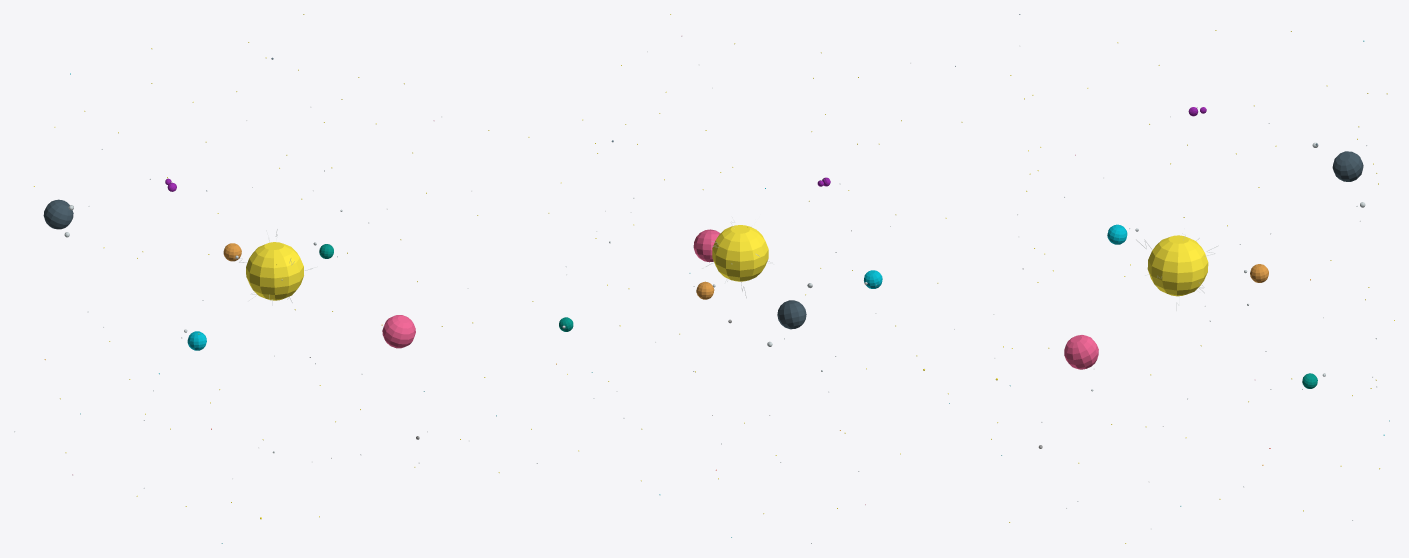
The model's file is Stellar.glb.
The picture shows the model from 3 angles, left to right: view 1: azimuth 30°, elevation 25°; view 2: azimuth 150°, elevation 25°; view 3: azimuth 270°, elevation 25°; orthographic projection. The views are drawn at different scales.
Visible parts, largest first — view 1: Node; view 2: Node; view 3: Node.
Part boxes in pixels (x1,y1,x2,y2): Node: [14, 14, 499, 543]; Node: [528, 14, 962, 543]; Node: [991, 14, 1394, 543].
Bounding box in the file's own units: 6.98 × 7.42 × 7.13.
